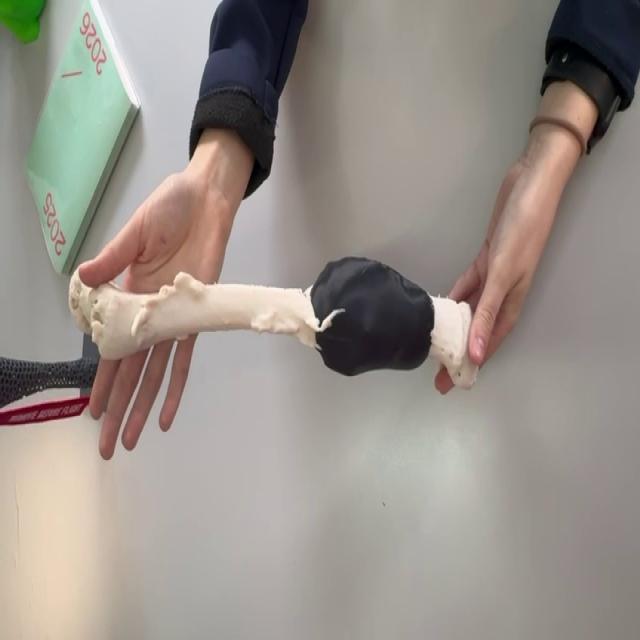bones: (69, 256, 477, 387)
